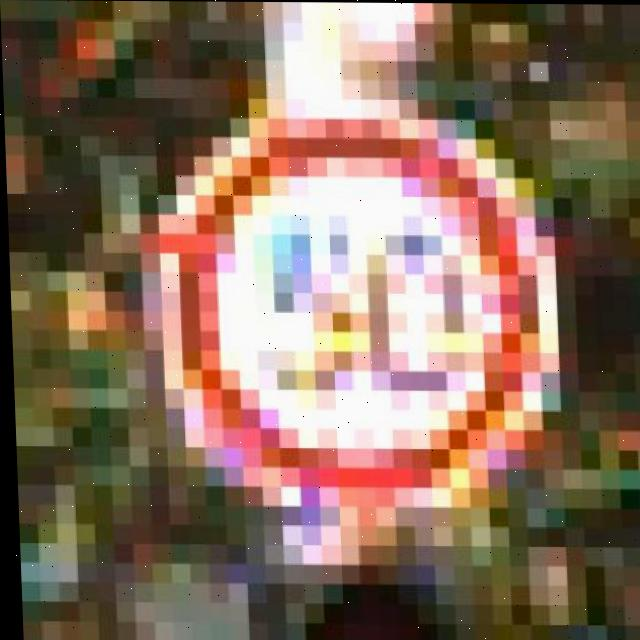Speed limit 50: (147, 108, 563, 560)
